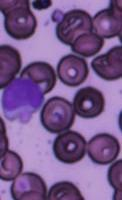M: (0, 76, 43, 123)
